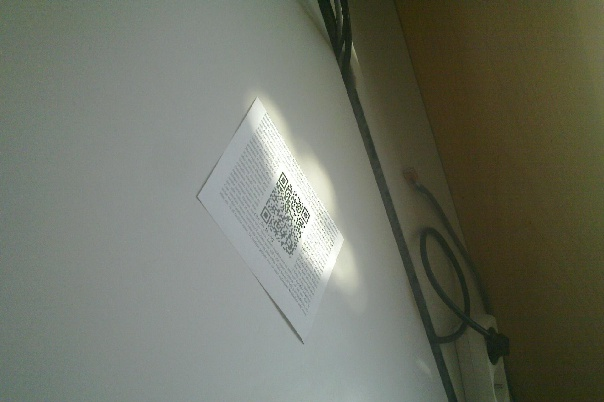code: (260, 172, 310, 256)
